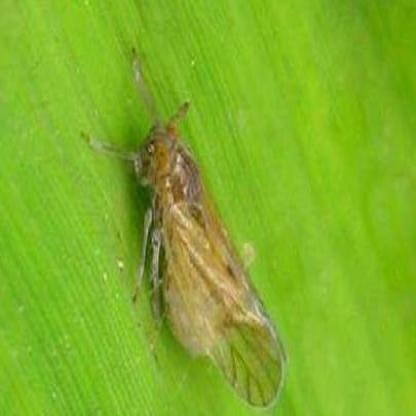brown-planthopper: (102, 102, 286, 412)
